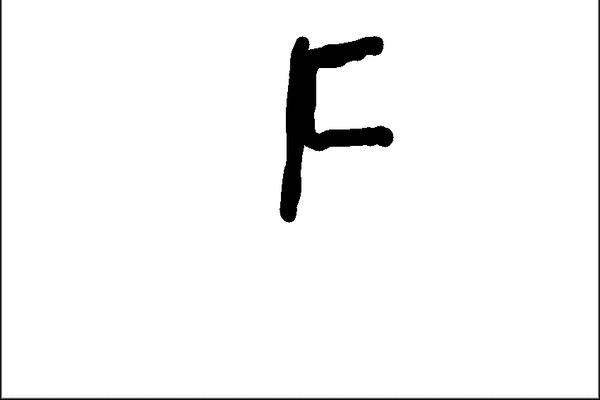F: (275, 31, 397, 226)
